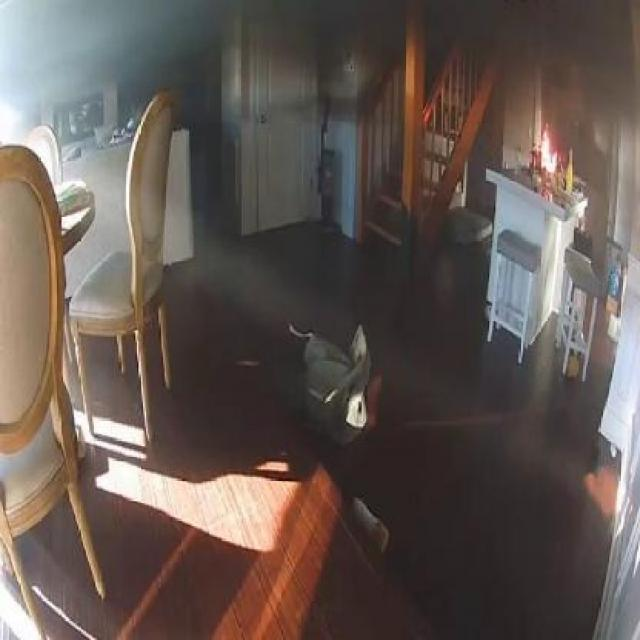fire: (532, 110, 560, 175)
